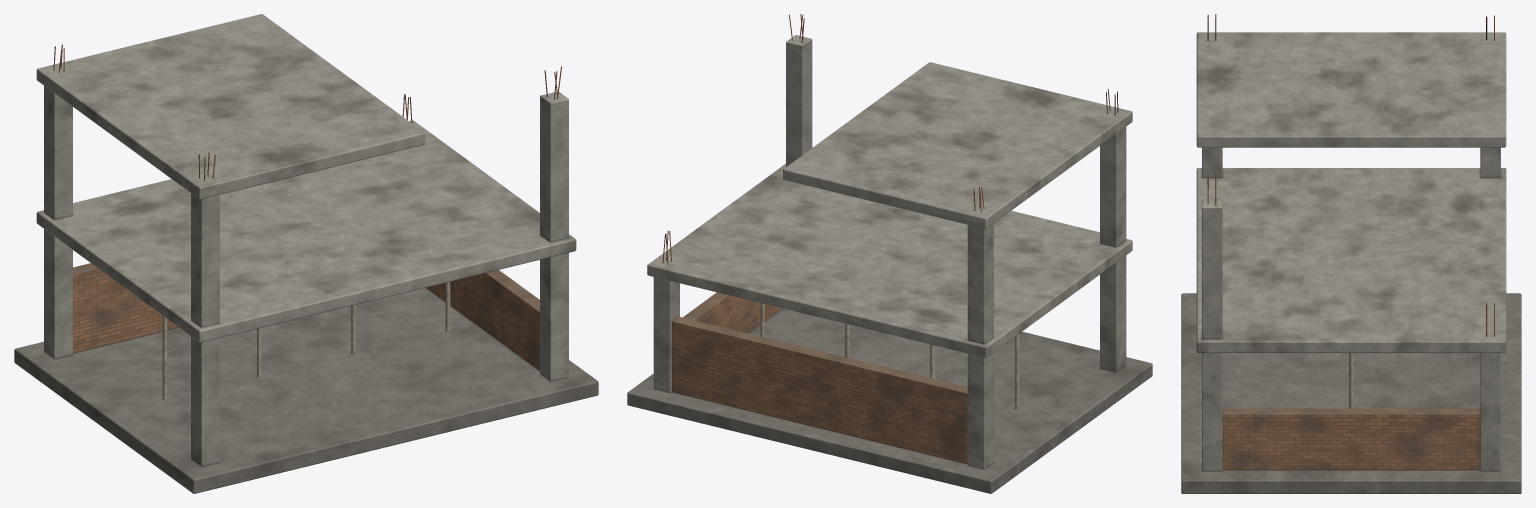
The model's file is budowa_szkielet.glb.
3 renders of one model, left to right at view 1: azimuth 30°, elevation 25°; view 2: azimuth 150°, elevation 25°; view 3: azimuth 270°, elevation 25°, orthographic. The views are drawn at different scales.
Parts seen in each view (by area): view 1: Szkielet; view 2: Szkielet; view 3: Szkielet.
Part boxes in pixels (x1=…): Szkielet: x1=14, y1=14, x2=598, y2=493; Szkielet: x1=627, y1=14, x2=1152, y2=493; Szkielet: x1=1181, y1=14, x2=1521, y2=493.
Bounding box in the file's own units: 8.6 × 6.5 × 6.6.
1 material, 1 textured.
